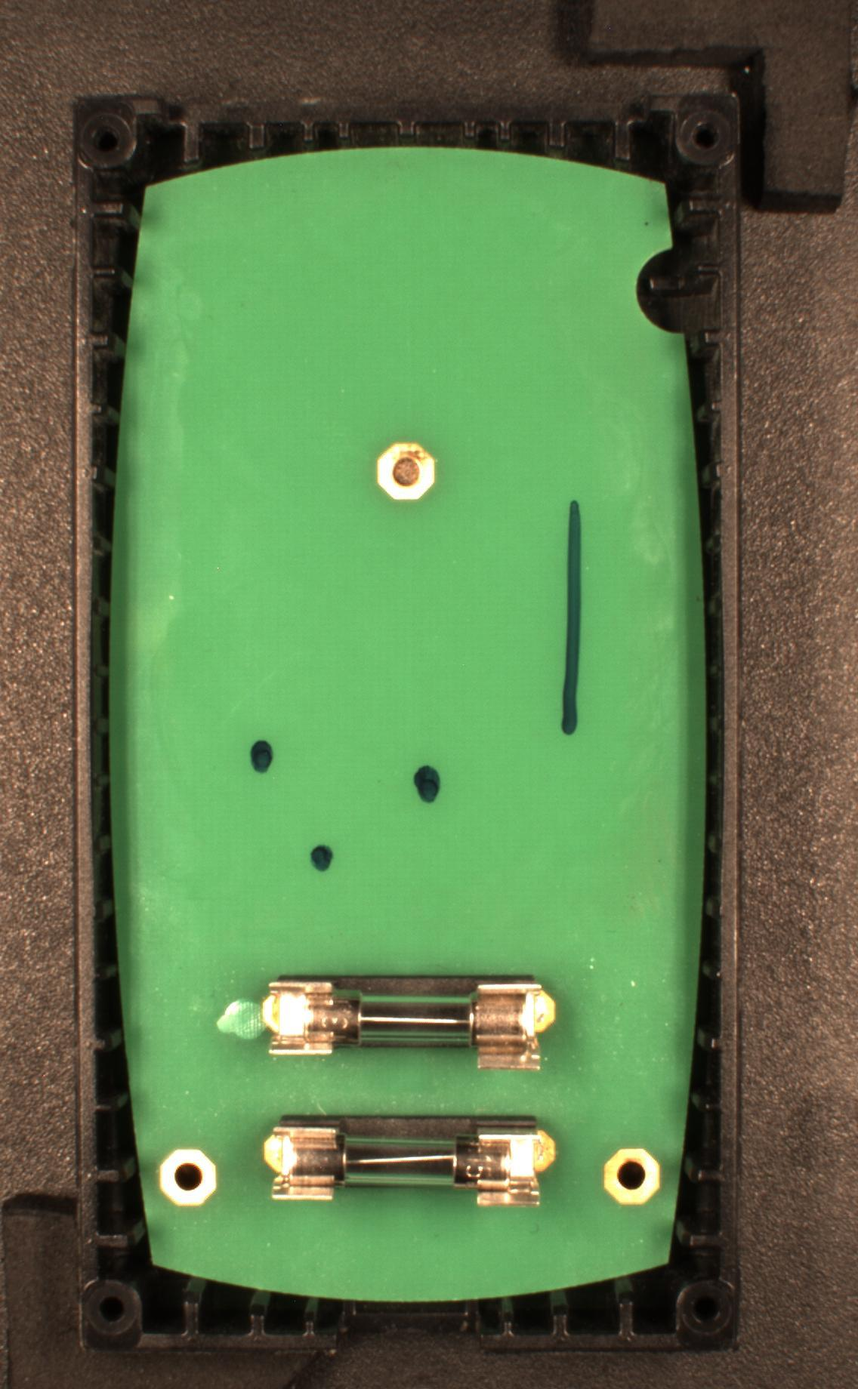Linijsko Ostecene: (554, 498, 586, 735)
Tockasto Ostecenje: (409, 761, 445, 808), (246, 736, 276, 778), (308, 843, 336, 875)
